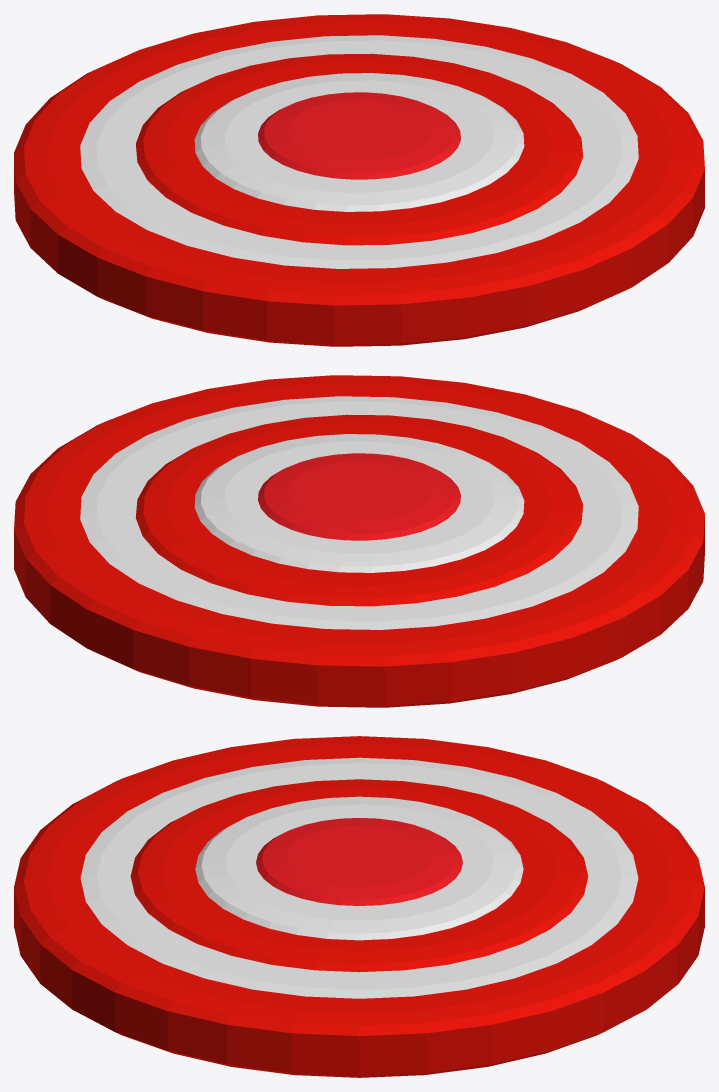
File: target.fbx
The picture shows the model from 3 angles, top to bottom: view 1: azimuth 30°, elevation 25°; view 2: azimuth 150°, elevation 25°; view 3: azimuth 270°, elevation 25°; orthographic projection.
Parts seen in each view (by area): view 1: Cylinder.001; view 2: Cylinder.001; view 3: Cylinder.001.
Part boxes in pixels (x1,y1,x2,y2): Cylinder.001: (14,14,704,346); Cylinder.001: (14,375,704,707); Cylinder.001: (14,736,704,1077).
Size of the model in its own units: 592 by 94.3 by 580.
